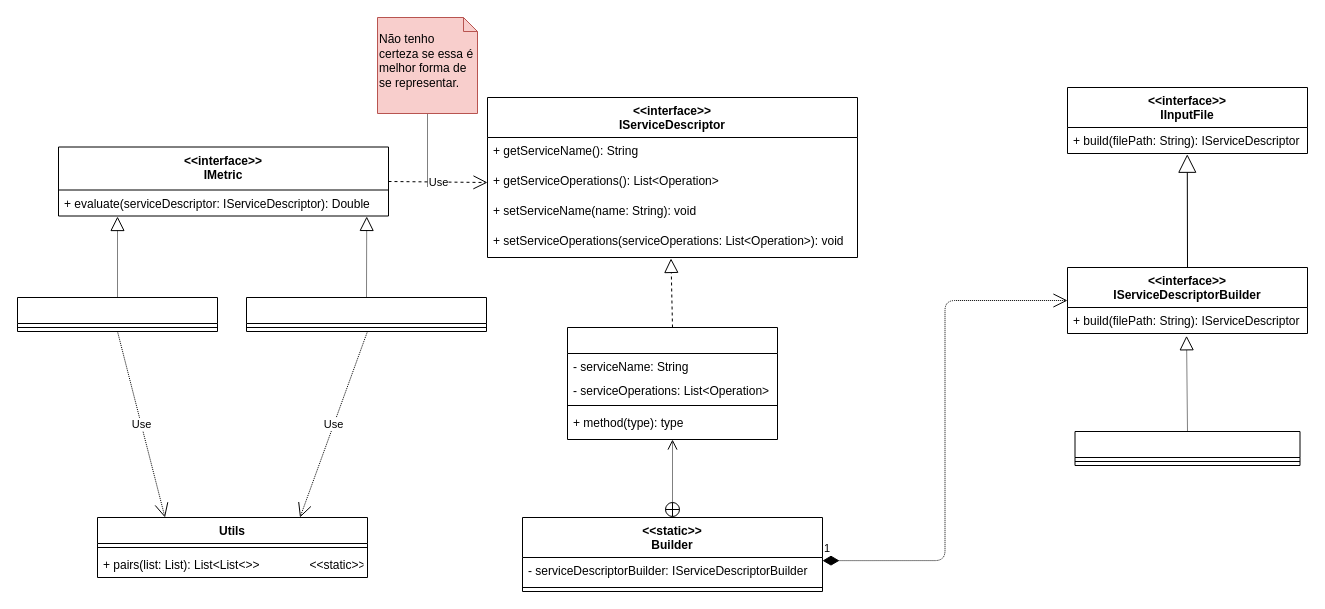
Image size: 1325x609. Some labels were removed from this diagram. Here are the shapes that lost their labels. From the top down, the box of each, then its label:
(16, 296, 218, 332): ServiceInterfaceDataCohesion
(246, 296, 486, 332): StrictServiceImplementationCohesion
(566, 326, 778, 440): ServiceDescriptor
(1074, 430, 1300, 466): TextFileServiceDescriptorBuilder
